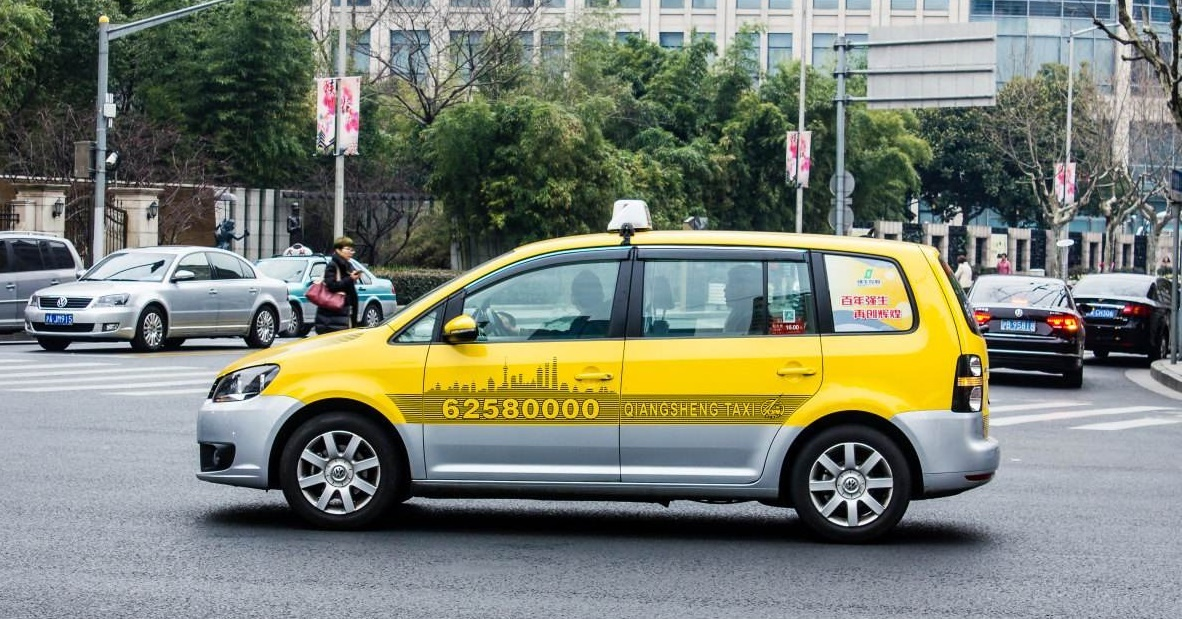family sedan: (20, 226, 297, 355), (957, 254, 1087, 393), (1058, 274, 1171, 361)
taxi: (181, 216, 991, 569)
